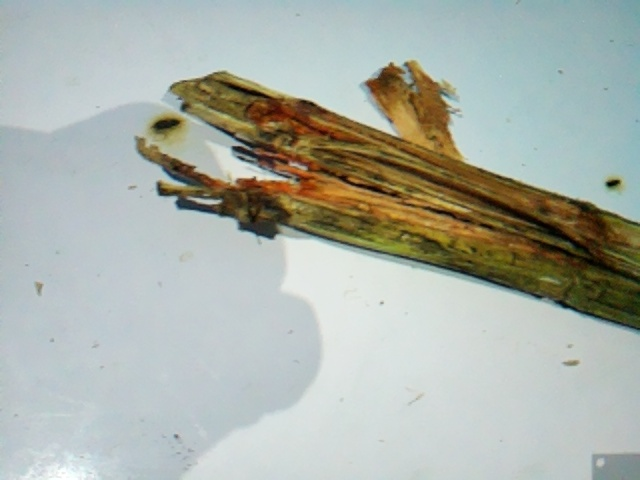Red-Rot: (130, 52, 640, 328)
